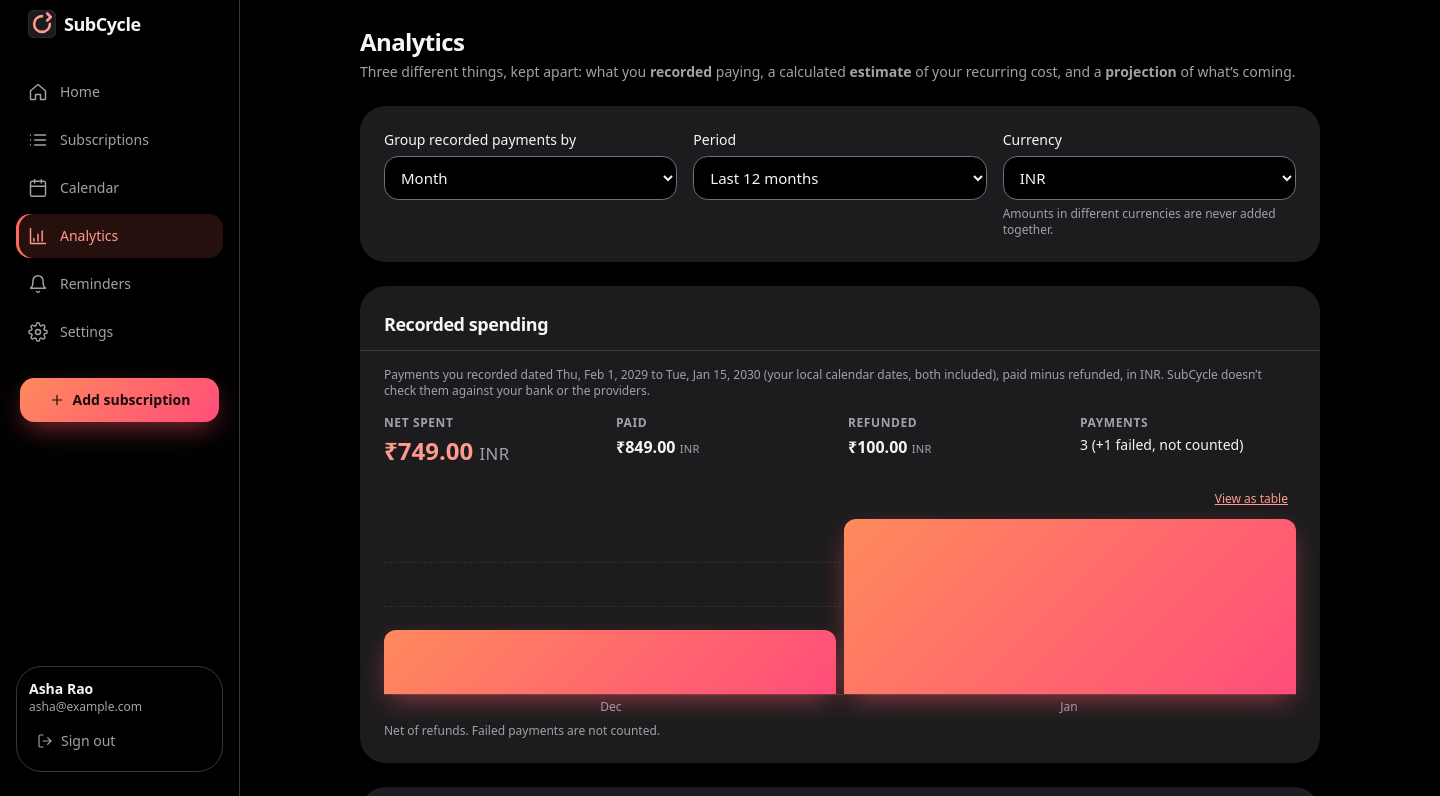
it: analytics page › never adds currencies: switching shows the other currency alone, with the hint
Expected: the heading "Recorded spending" is shown, [384,310,548,338]
Expected: the text "Amounts in different currencies are never added together." is shown, [1003,206,1296,238]
Select "USD" in the dropdown labelled "Currency" at (1149, 178), box [1003,156,1296,200]
(page scrolled)
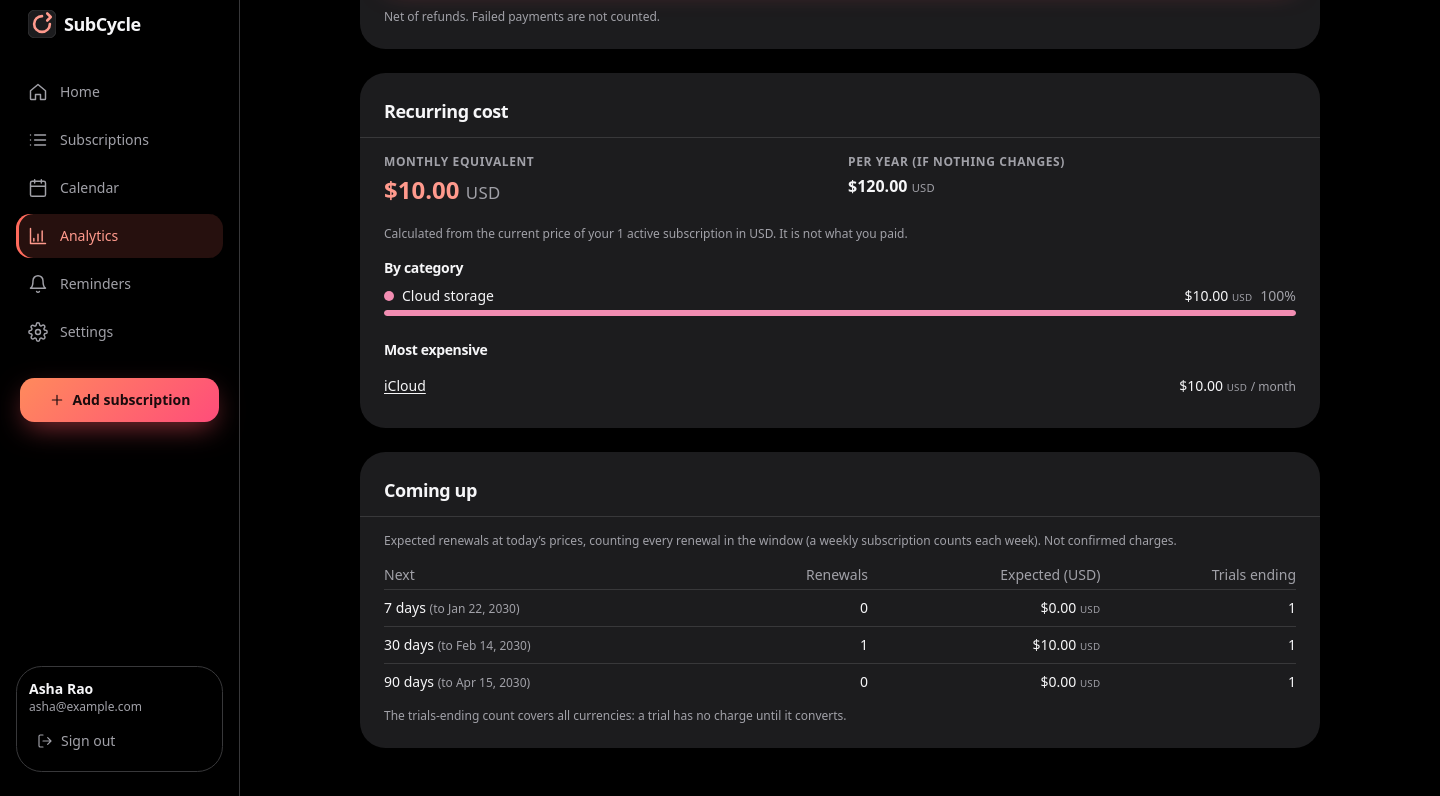
Expected: the column heading "Expected (USD)" is shown, [868,561,1100,589]
Expected: the text "768.00" is gone
